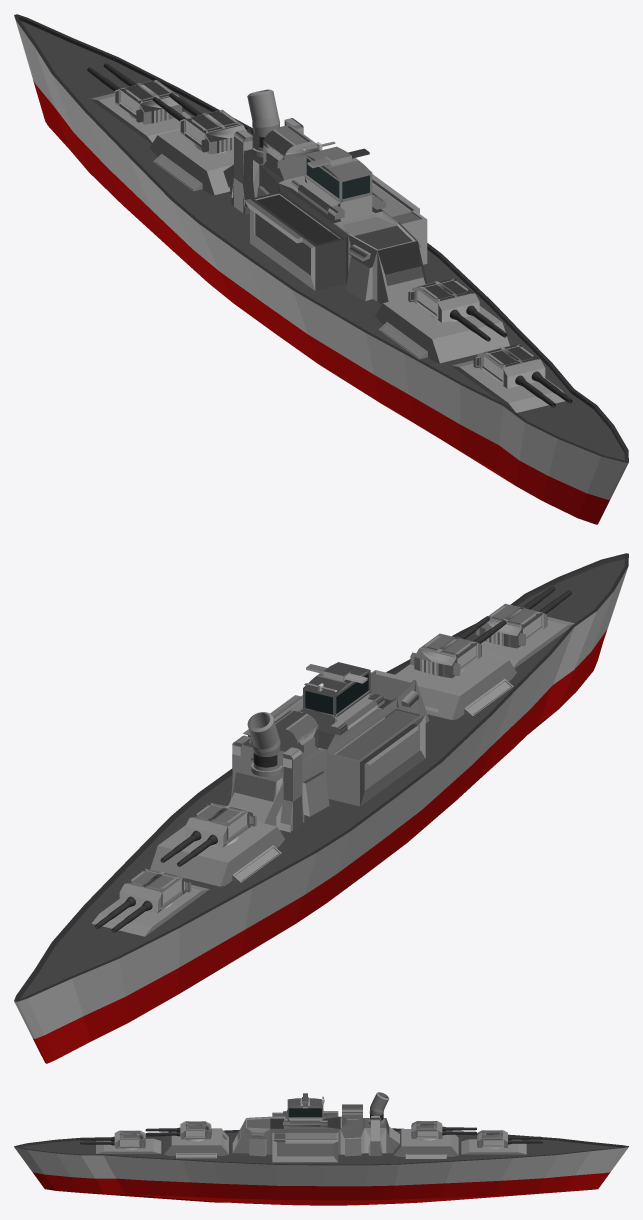
3 views of the same model, one above another, from view 1: azimuth 30°, elevation 25°; view 2: azimuth 150°, elevation 25°; view 3: azimuth 270°, elevation 25° (orthographic). The views are drawn at different scales.
Visible parts, largest first — view 1: Polygon_1, Cube, Polygon, Cube_5, Cube_2, Base_2, Base, Base_4, Base_3, Cube_3, Oil_Tank_1, Cube_1; view 2: Polygon_1, Polygon, Cube, Cube_2, Cube_5, Base, Base_4, Base_3, Base_2, Cube_1, Oil_Tank_1, Cube_3; view 3: Polygon_1, Cube, Polygon, Cube_2, Cube_5, Cube_1, Cube_3, Base, Base_2, Base_3, Base_4, Oil_Tank_1.
Boxes of the visible parts, x1,y1,x2,y2 form: Polygon_1: (14,17,628,524); Cube: (229,118,427,304); Polygon: (14,14,628,462); Cube_5: (375,297,509,363); Cube_2: (150,129,233,195); Base_2: (473,344,545,388); Base: (408,278,479,322); Base_4: (114,80,186,124); Base_3: (180,109,251,154); Cube_3: (452,360,565,412); Oil_Tank_1: (247,89,279,157); Cube_1: (90,93,191,143); Polygon_1: (14,567,627,1063); Polygon: (14,553,628,1001); Cube: (231,662,429,832); Cube_2: (150,782,284,886); Cube_5: (395,653,516,719); Base: (410,633,481,678); Base_4: (119,868,191,913); Base_3: (185,802,256,847); Base_2: (476,603,547,648); Cube_1: (92,885,209,936); Oil_Tank_1: (247,712,282,776); Cube_3: (481,616,574,668); Polygon_1: (14,1147,628,1205); Cube: (232,1093,394,1162); Polygon: (14,1128,628,1165); Cube_2: (389,1127,458,1158); Cube_5: (164,1128,228,1158); Cube_1: (461,1139,526,1154); Cube_3: (96,1138,161,1153); Base: (180,1121,211,1139); Base_2: (114,1130,145,1148); Base_3: (411,1121,442,1138); Base_4: (477,1130,507,1147); Oil_Tank_1: (368,1092,389,1125).
Bounding box in the file's own units: 114 × 151 × 789.
